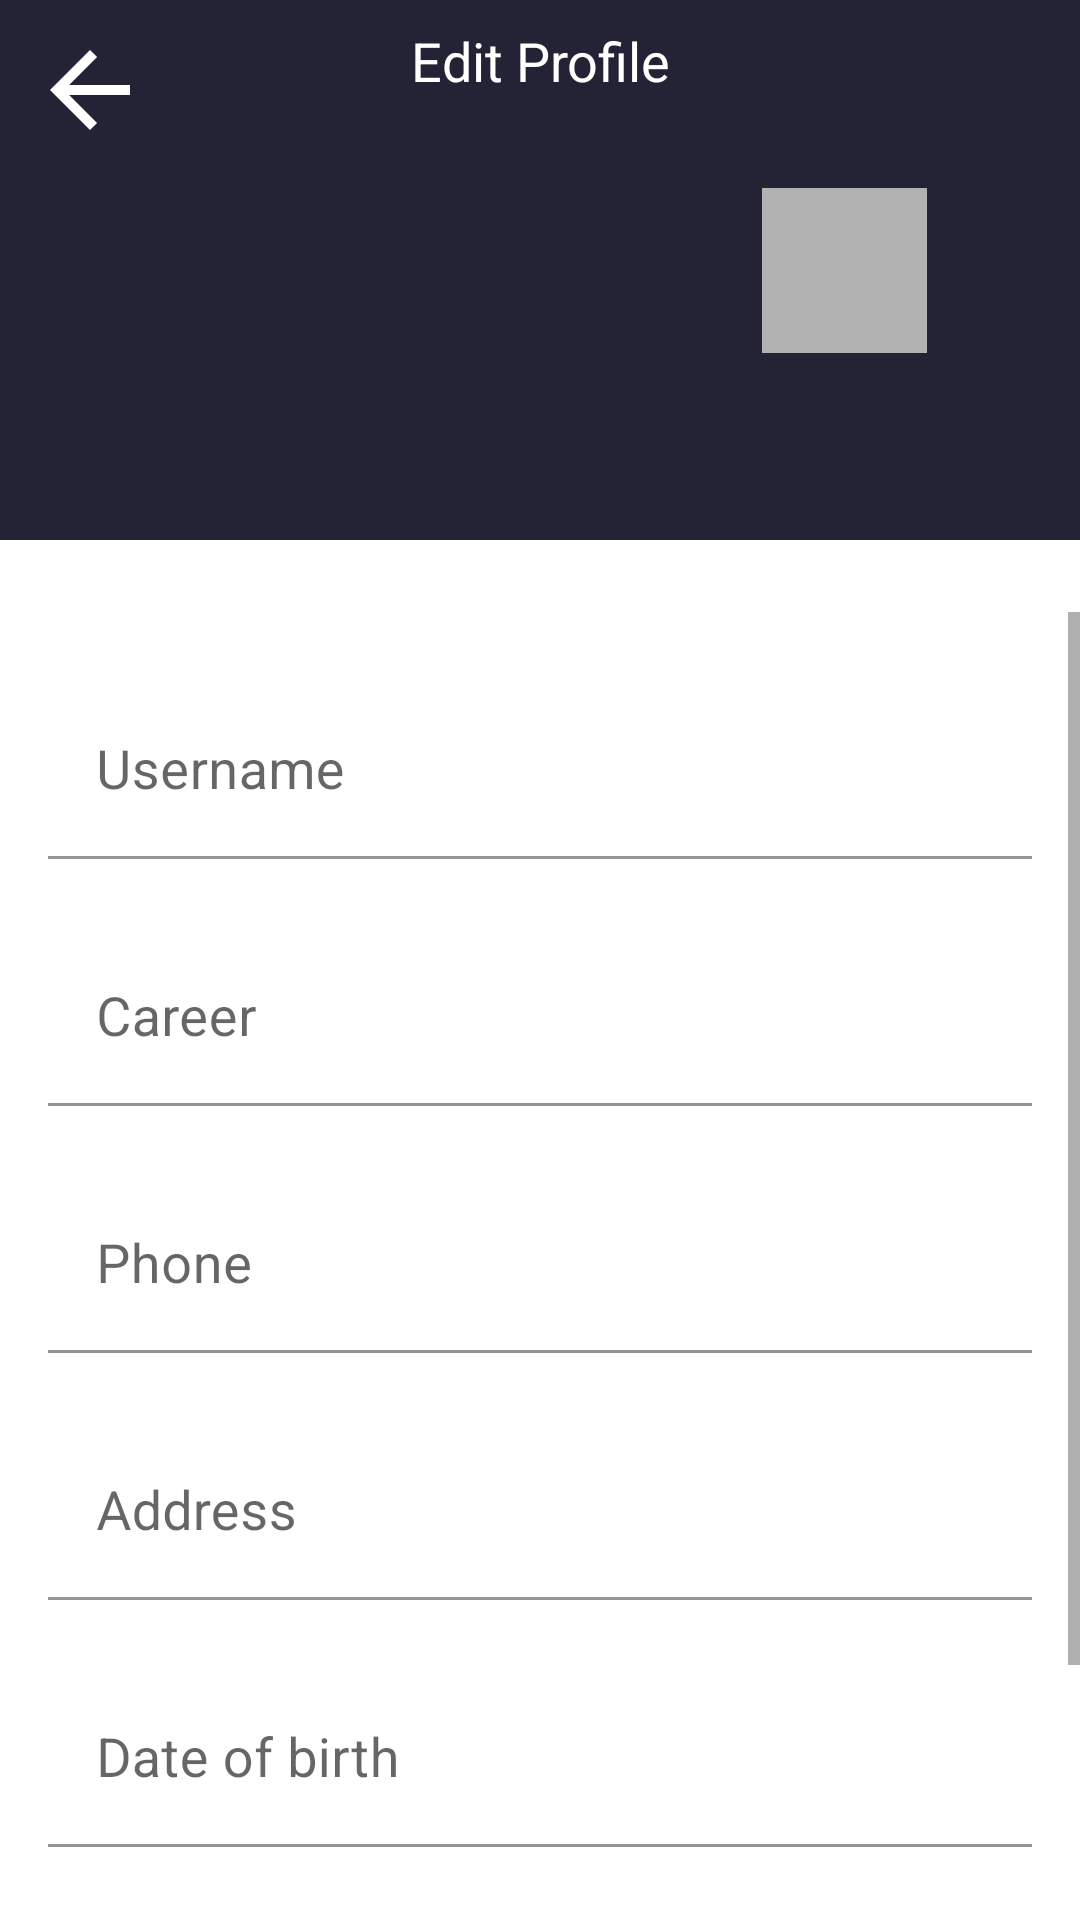

Icon bounding boxes for this 1080px×1920px phone screenshot, format (x1, y1, x2, y2):
back arrow: (50, 50, 130, 130)
